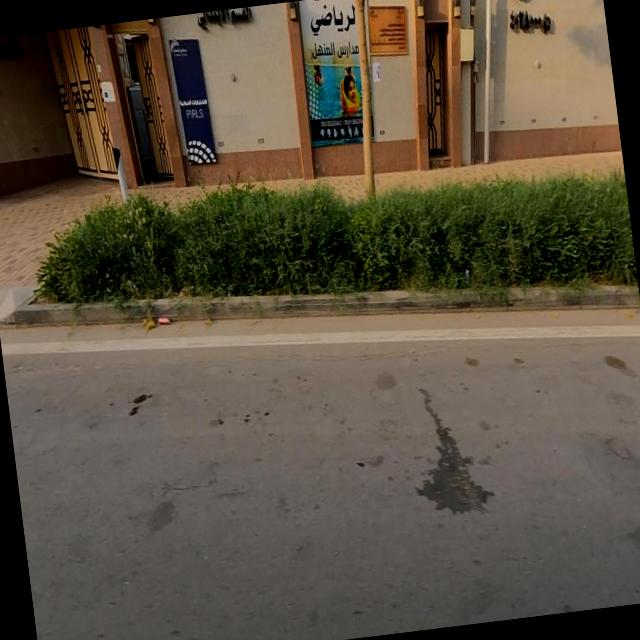debris: (126, 294, 190, 352)
